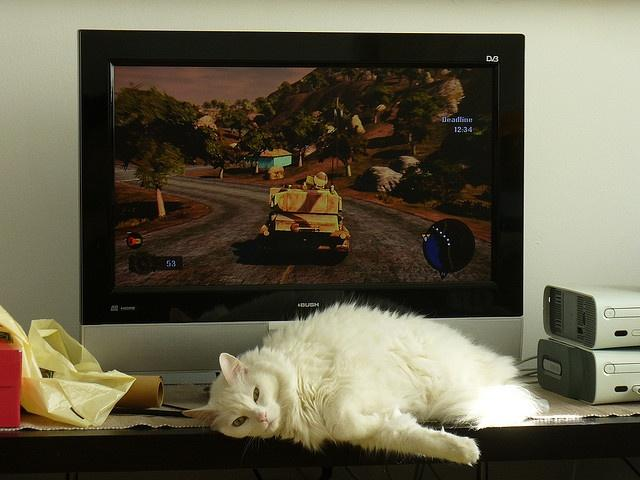AIO PC-Monitor-TV: (76, 27, 526, 325)
